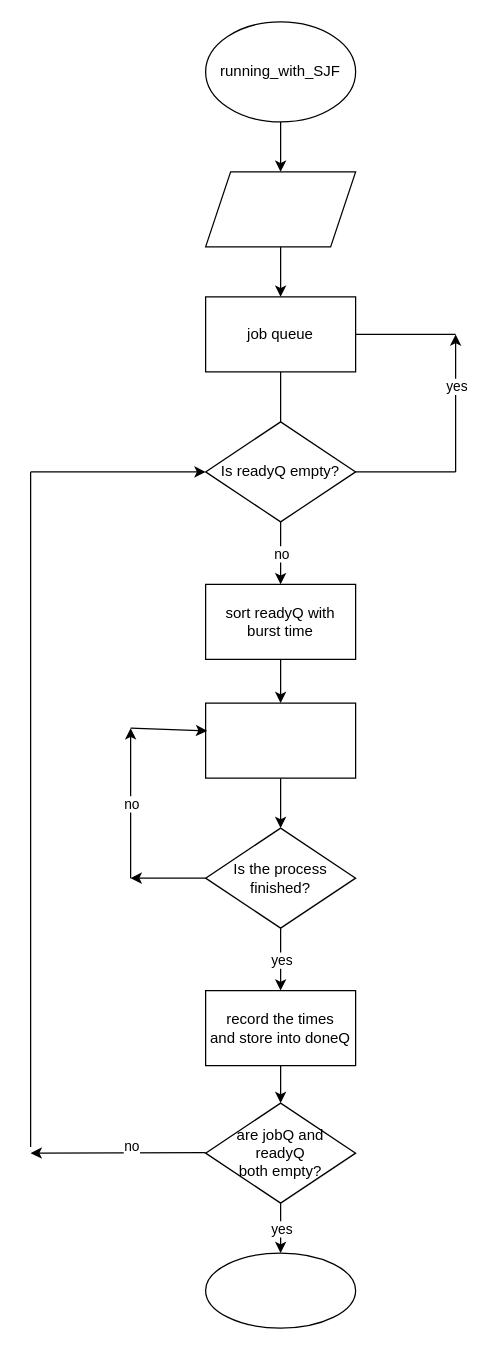
Image size: 489x1350. Some labels were removed from this diagram. The box of each missing label's shape, as (x1, y1, x2, y2) in pixels:
END: (204, 1252, 356, 1328)
read file: (204, 171, 356, 247)
run the process in the front of queue: (204, 702, 356, 778)
